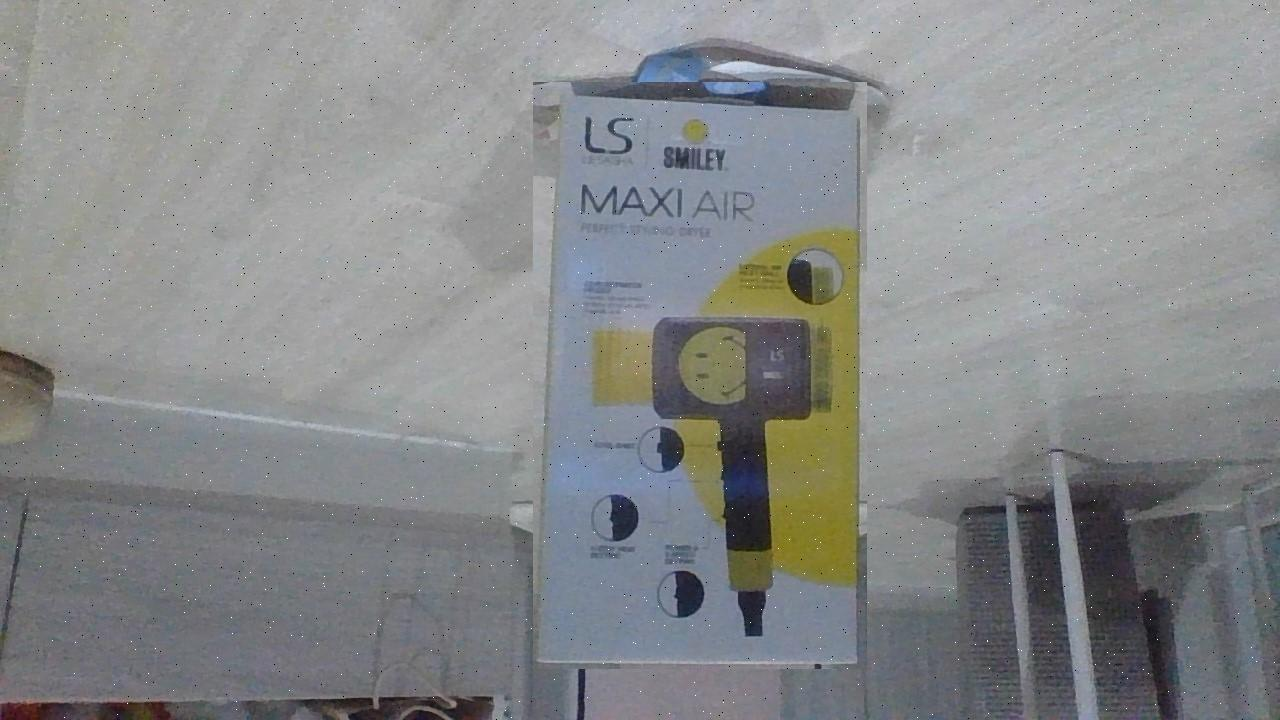IRON: (533, 82, 867, 669)
